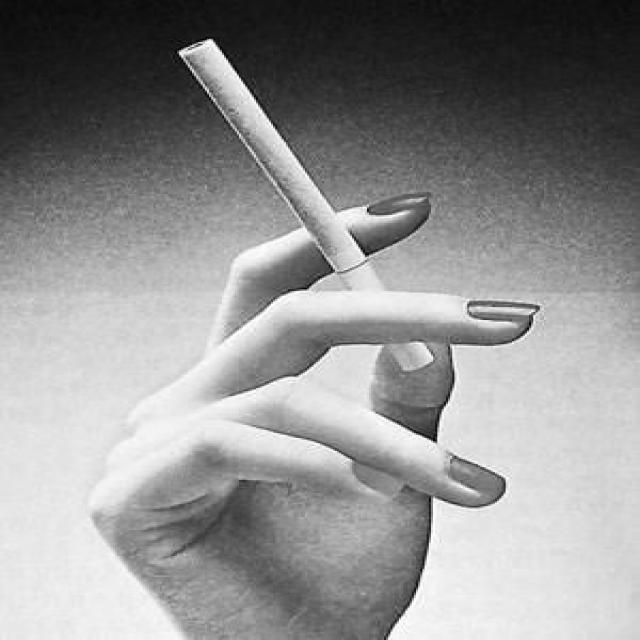cigarette: (168, 19, 440, 388)
